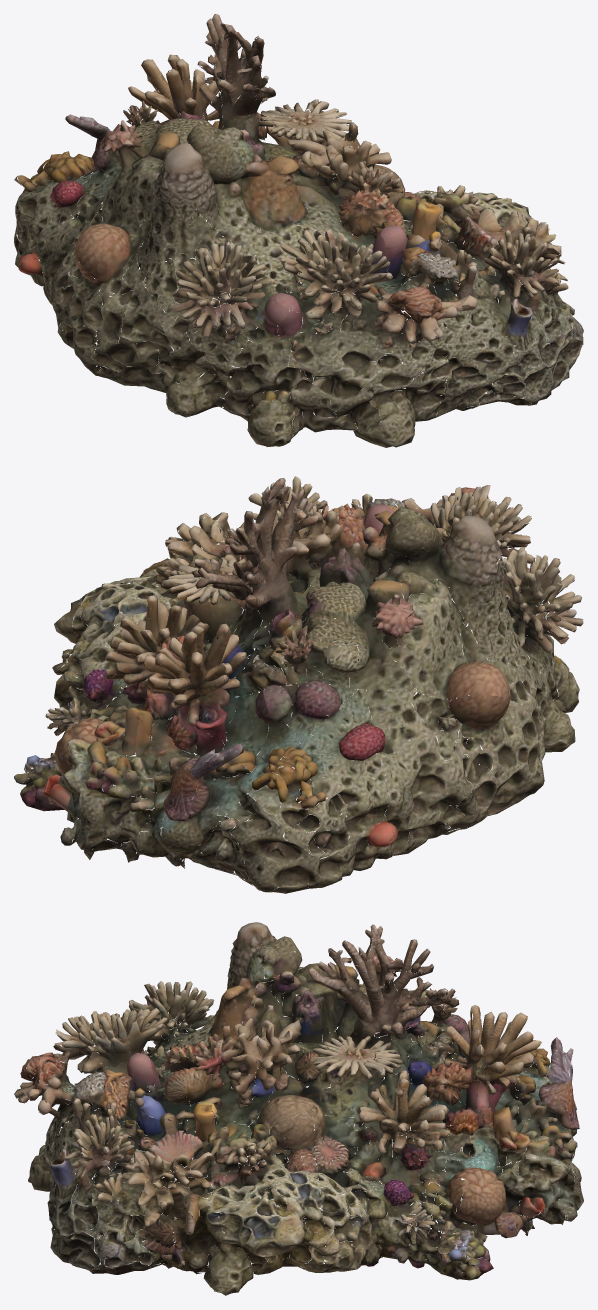
File: ReefShelf.glb
The picture shows the model from 3 angles, top to bottom: view 1: azimuth 30°, elevation 25°; view 2: azimuth 150°, elevation 25°; view 3: azimuth 270°, elevation 25°; orthographic projection. The views are drawn at different scales.
Parts seen in each view (by area): view 1: tripo_node_d6195e38-683b-44e2-b464-88540a357d0d; view 2: tripo_node_d6195e38-683b-44e2-b464-88540a357d0d; view 3: tripo_node_d6195e38-683b-44e2-b464-88540a357d0d.
Boxes of the visible parts, x1,y1,x2,y2 form: tripo_node_d6195e38-683b-44e2-b464-88540a357d0d: (14, 14, 583, 447); tripo_node_d6195e38-683b-44e2-b464-88540a357d0d: (14, 476, 583, 893); tripo_node_d6195e38-683b-44e2-b464-88540a357d0d: (14, 922, 583, 1295).
Size of the model in its own units: 0.8354 by 0.5292 by 0.9999.
1 material, 1 textured.
